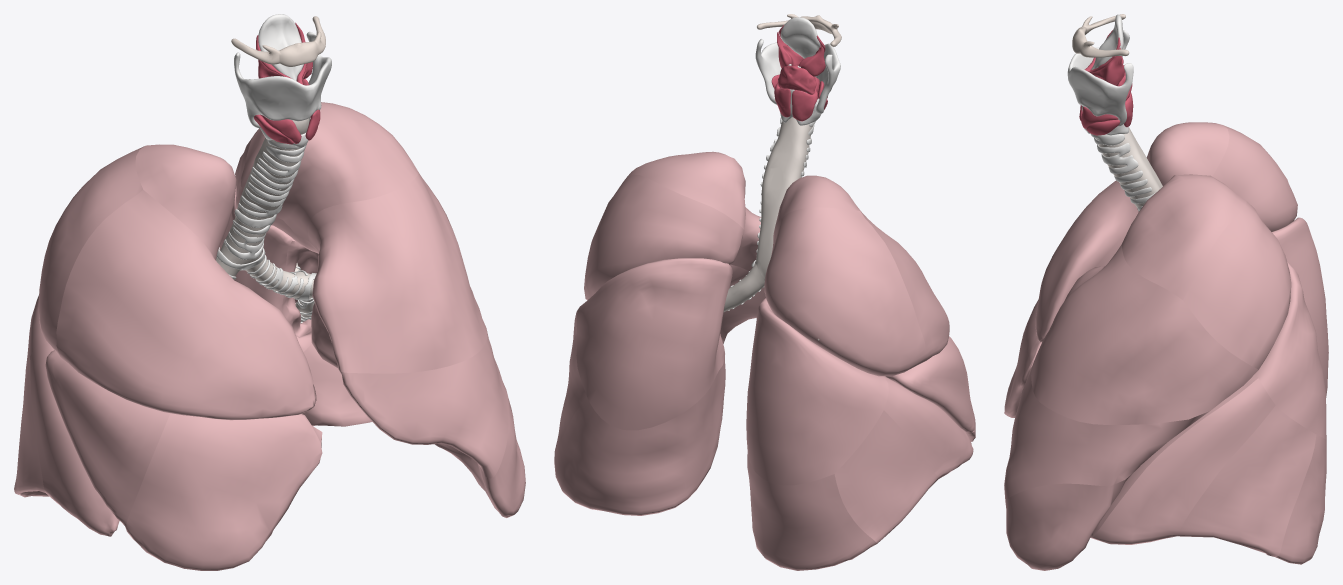
File: lungs.glb
3 renders of one model, left to right at view 1: azimuth 30°, elevation 25°; view 2: azimuth 150°, elevation 25°; view 3: azimuth 270°, elevation 25°, orthographic. The views are drawn at different scales.
Parts seen in each view (by area): view 1: VH_M_trachea, VH_M_hyoid; view 2: VH_M_trachea, VH_M_hyoid; view 3: VH_M_trachea, VH_M_hyoid.
Part boxes in pixels (x1,y1,x2,y2): VH_M_trachea: [14, 31, 525, 570]; VH_M_hyoid: [223, 14, 325, 323]; VH_M_trachea: [554, 39, 975, 570]; VH_M_hyoid: [728, 14, 841, 310]; VH_M_trachea: [1004, 30, 1328, 570]; VH_M_hyoid: [1072, 14, 1133, 135].
Bounding box in the file's own units: 0.2594 × 0.3146 × 0.1897.
1 material, 1 textured.
